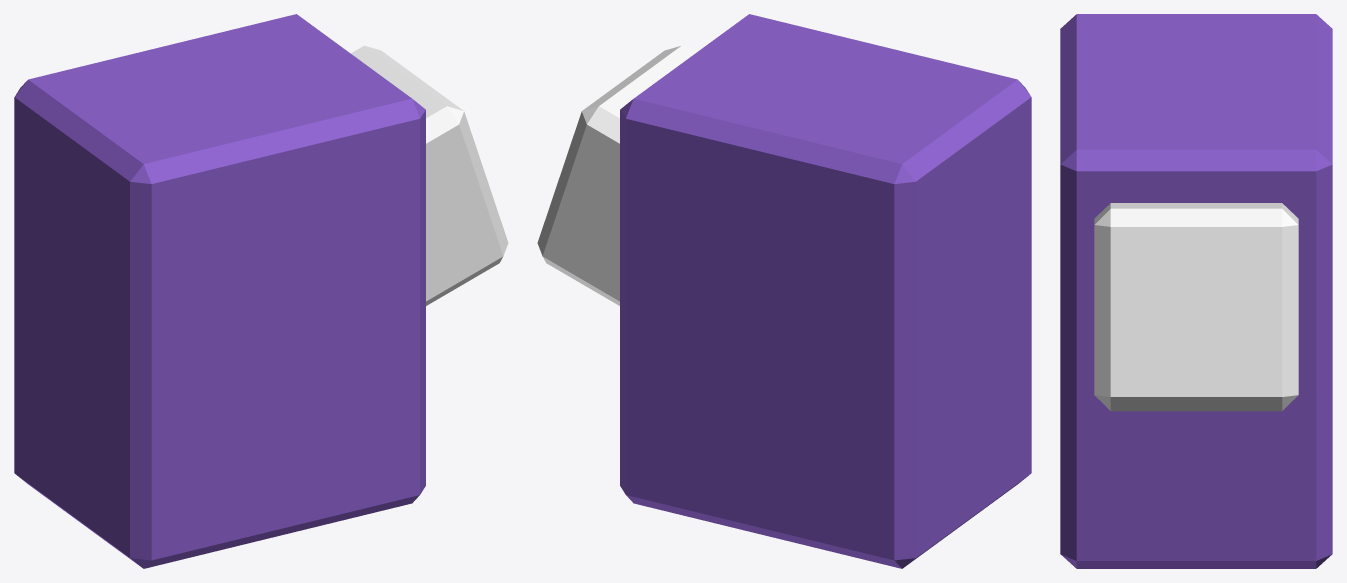
Rendered from magnetic_trigger.glb.
The picture shows the model from 3 angles, left to right: view 1: azimuth 30°, elevation 25°; view 2: azimuth 150°, elevation 25°; view 3: azimuth 270°, elevation 25°; orthographic projection. The views are drawn at different scales.
Visible parts, largest first — view 1: magnetic_trigger; view 2: magnetic_trigger; view 3: magnetic_trigger.
Part boxes in pixels (x1=…): magnetic_trigger: x1=14, y1=14, x2=508, y2=568; magnetic_trigger: x1=537, y1=14, x2=1031, y2=568; magnetic_trigger: x1=1060, y1=14, x2=1332, y2=568.
Bounding box in the file's own units: 0.1735 × 0.17 × 0.1.
